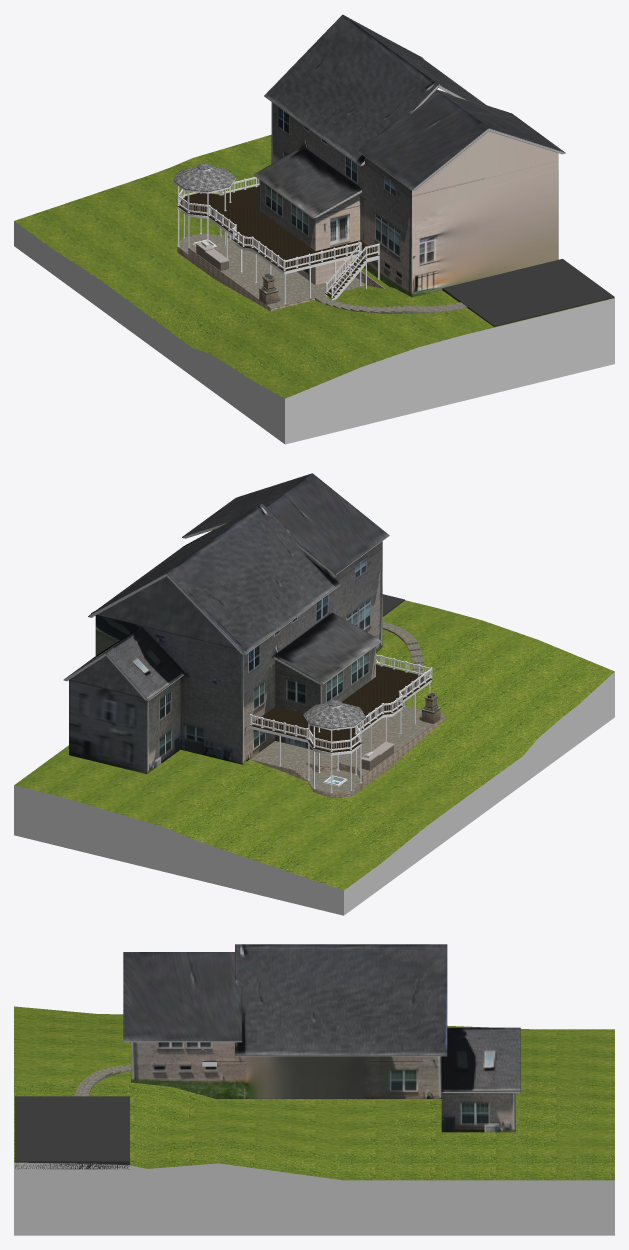
File: patio.gltf
3 views of the same model, one above another, from view 1: azimuth 30°, elevation 25°; view 2: azimuth 150°, elevation 25°; view 3: azimuth 270°, elevation 25° (orthographic). The views are drawn at different scales.
Visible parts, largest first — view 1: Object_21, Object_14, Object_15, Object_16, Object_7, Object_6, Object_18, Object_10, Object_5; view 2: Object_21, Object_14, Object_15, Object_18, Object_7, Object_6, Object_10, Object_5; view 3: Object_21, Object_14, Object_15, Object_16, Object_18.
Part boxes in pixels (box(x1,y1,x2,y2)): Object_21: box(254, 14, 565, 297); Object_14: box(14, 134, 614, 398); Object_15: box(14, 221, 614, 444); Object_16: box(442, 259, 614, 326); Object_7: box(177, 185, 379, 298); Object_6: box(177, 176, 379, 304); Object_18: box(177, 233, 467, 313); Object_10: box(177, 236, 384, 311); Object_5: box(173, 163, 235, 191); Object_21: box(63, 473, 389, 773); Object_14: box(14, 600, 614, 890); Object_15: box(14, 672, 614, 915); Object_18: box(250, 621, 444, 792); Object_7: box(250, 664, 432, 752); Object_6: box(250, 654, 432, 792); Object_10: box(250, 716, 445, 798); Object_5: box(304, 699, 365, 728); Object_21: box(123, 944, 520, 1132); Object_14: box(14, 1006, 614, 1180); Object_15: box(14, 1162, 614, 1235); Object_16: box(15, 1096, 129, 1169); Object_18: box(75, 1064, 130, 1096).
Bounding box in the file's own units: 32.08 × 20.84 × 45.44.
Materials: 20 (10 with a texture image).
